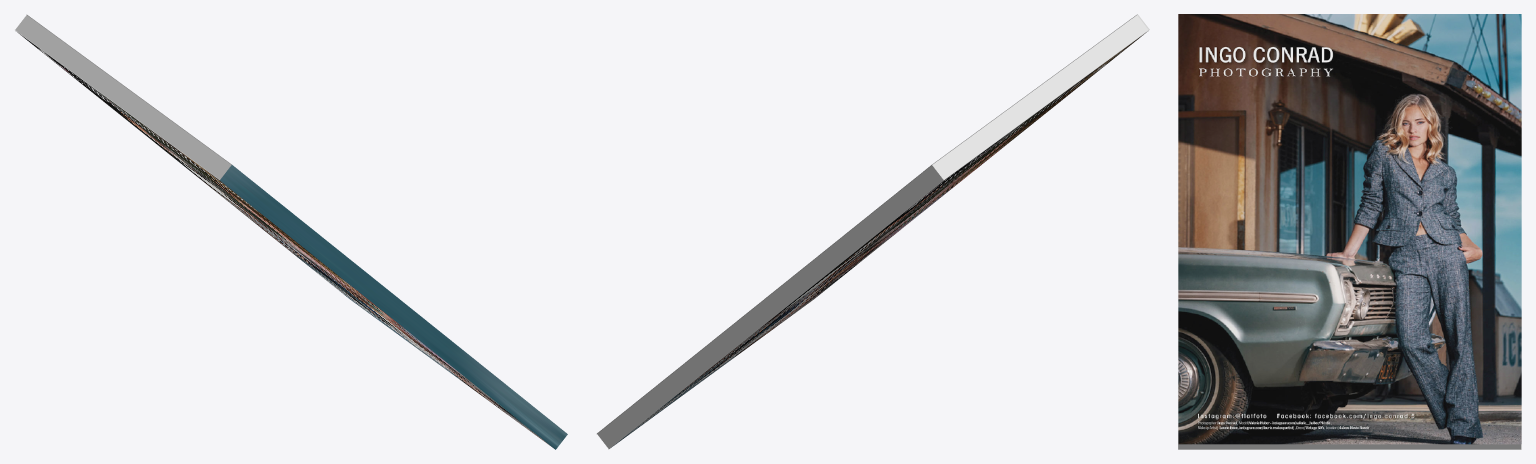
The model's file is laminated-size1-magazine.glb.
3 views of the same model, side by side, from view 1: azimuth 30°, elevation 25°; view 2: azimuth 150°, elevation 25°; view 3: azimuth 270°, elevation 25° (orthographic). The views are drawn at different scales.
Parts seen in each view (by area): view 1: Cube; view 2: Cube; view 3: Cube.
Part boxes in pixels (bbox=[...]): Cube: bbox=[15, 14, 567, 449]; Cube: bbox=[597, 14, 1149, 449]; Cube: bbox=[1178, 14, 1521, 449].
Bounding box in the file's own units: 0.2234 × 0.2234 × 0.2286.
2 materials, 1 textured.
